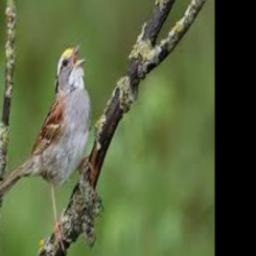Sparrow: (0, 42, 92, 256)
